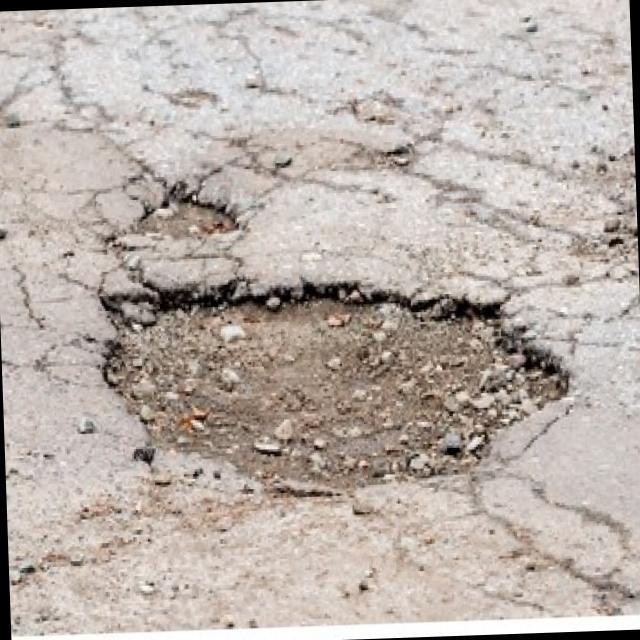Pothole: (94, 265, 576, 506), (133, 181, 244, 243)
